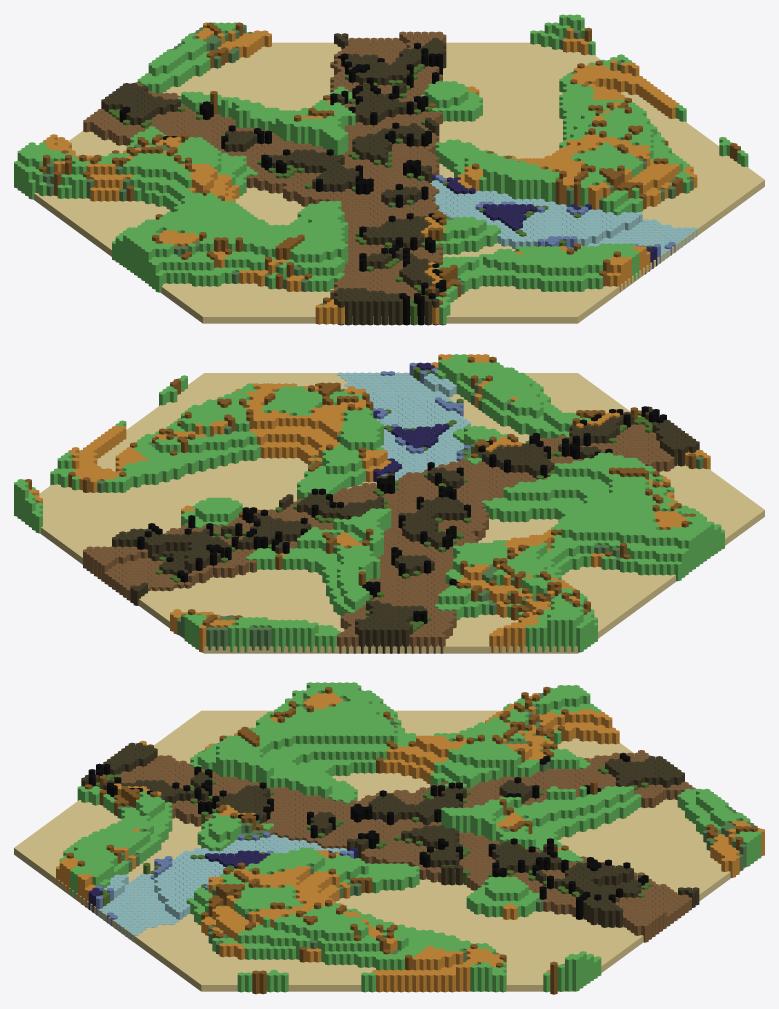
Rendered from 0003_tile_1121120.fbx.
3 renders of one model, top to bottom at view 1: azimuth 30°, elevation 25°; view 2: azimuth 150°, elevation 25°; view 3: azimuth 270°, elevation 25°, orthographic.
Visible parts, largest first — view 1: Plane; view 2: Plane; view 3: Plane.
Boxes of the visible parts, left/top/right/bottom form: Plane: left=14, top=14, right=764, bottom=325; Plane: left=14, top=354, right=764, bottom=653; Plane: left=14, top=682, right=764, bottom=994.
Size of the model in its own units: 1008 by 65.52 by 1152.
